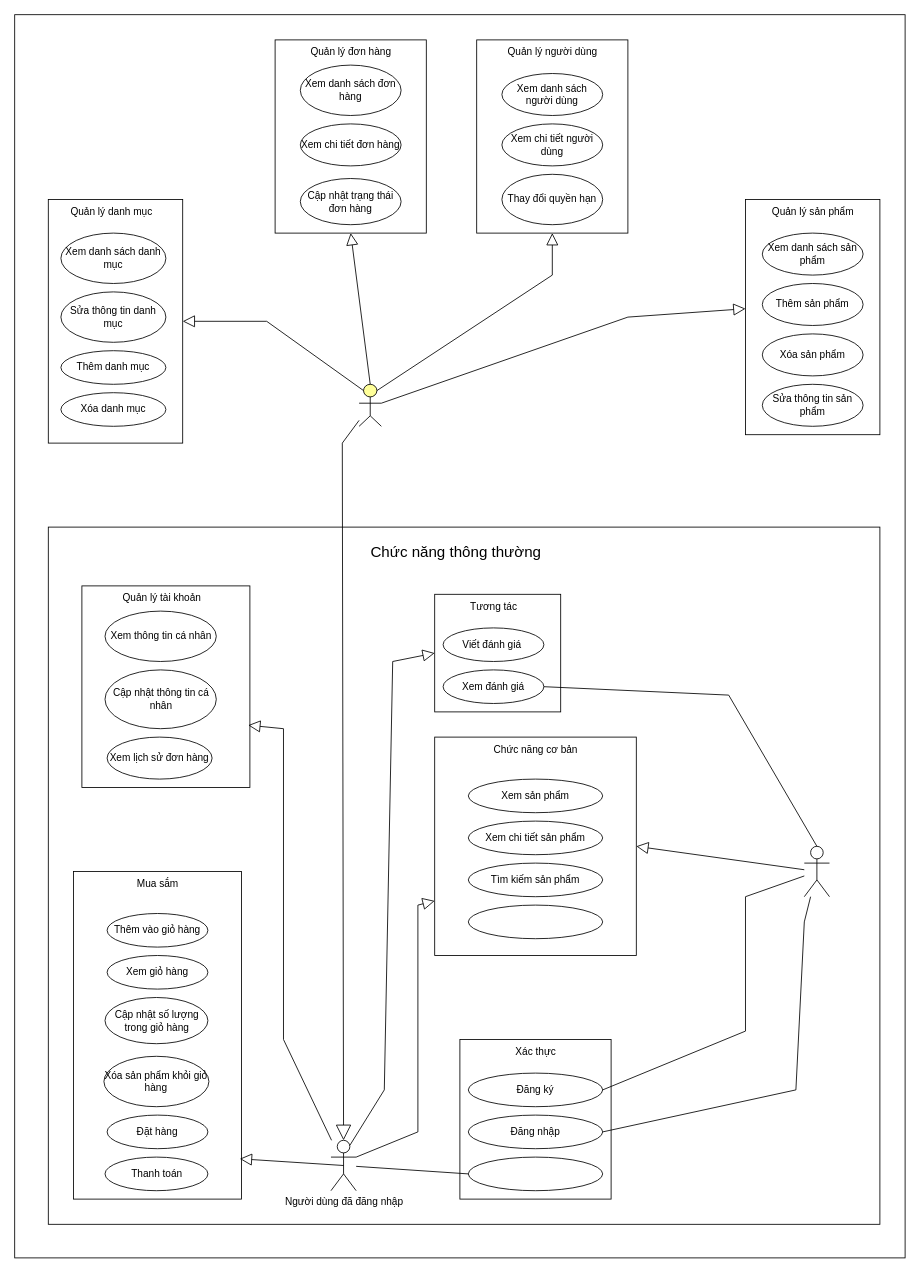
Some shapes in this 920 by 1273 pixel diagram are drawn without their labels. Here are the shapes that lost their labels. From the top down, the centre of each, then its label:
(369,404): Admin
(816,871): Người dùng chưa đăng nhập
(535,921): Xem đanh mục sản phẩm
(535,1173): Đăng xuất
